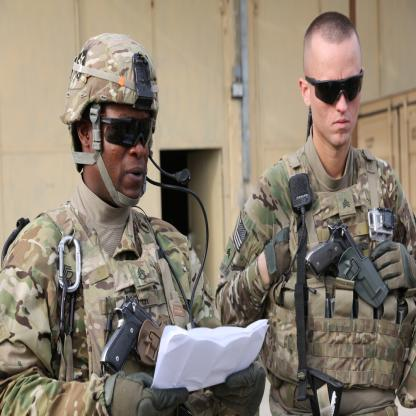Helmet: (64, 32, 154, 224)
